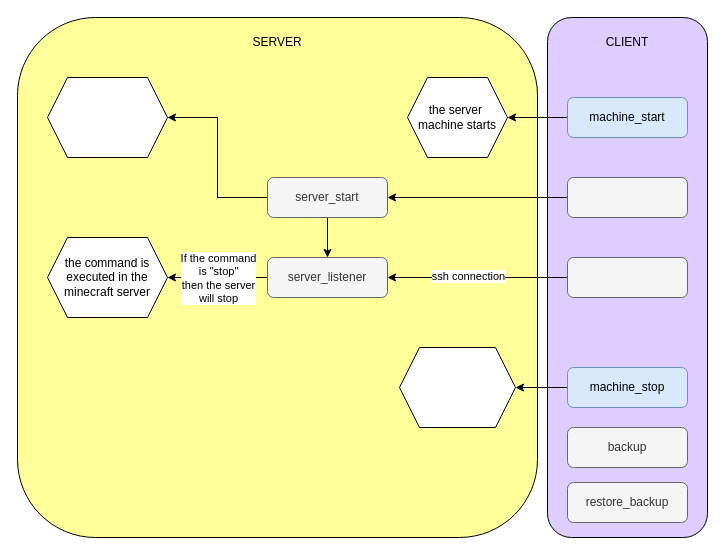
The diagram is 725 pixels wide and 555 high, and some of its shapes have lost their labels. Here are the shapes that lost their labels. From the top down, the centre of each, then its label:
At point (107, 117): "the minecraft server screen start".
At point (627, 197): "start_server".
At point (627, 277): "minecraft_command".
At point (457, 387): "the server machine gets shut down".
